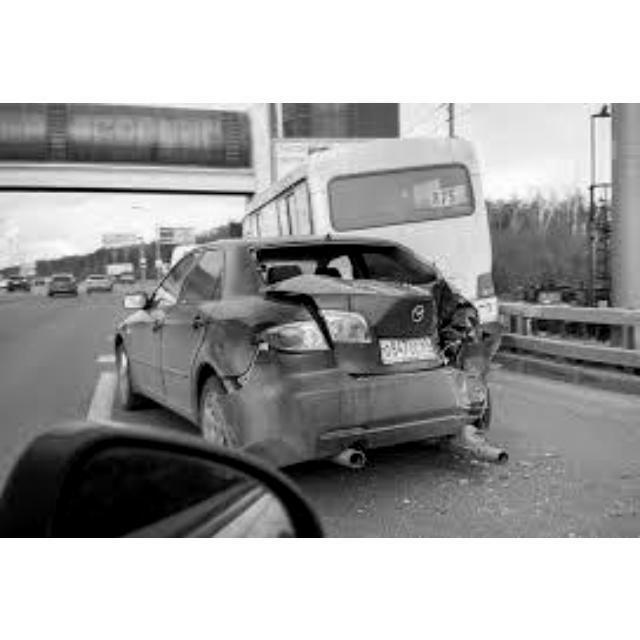boot-dent: (300, 248, 445, 360)
quaterpanel-dent: (207, 312, 287, 399)
